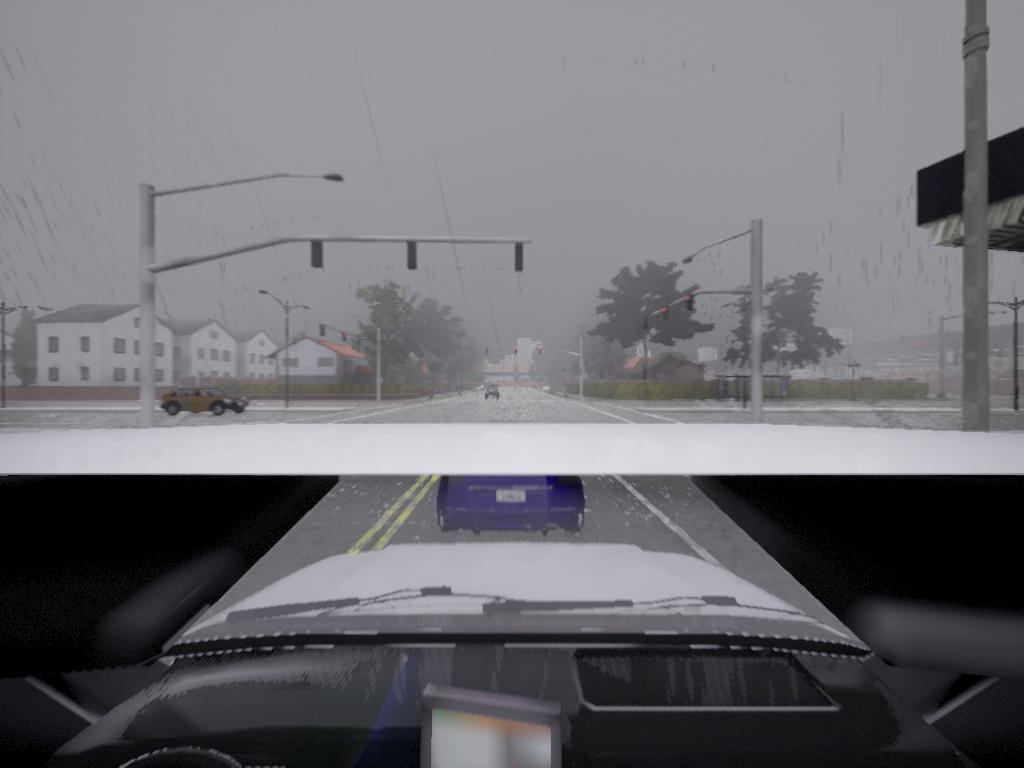traffic_light: (311, 241, 324, 269), (514, 245, 526, 274), (408, 244, 419, 274), (342, 333, 349, 345), (320, 325, 326, 338), (514, 347, 519, 358), (540, 348, 544, 359), (487, 347, 489, 357)
